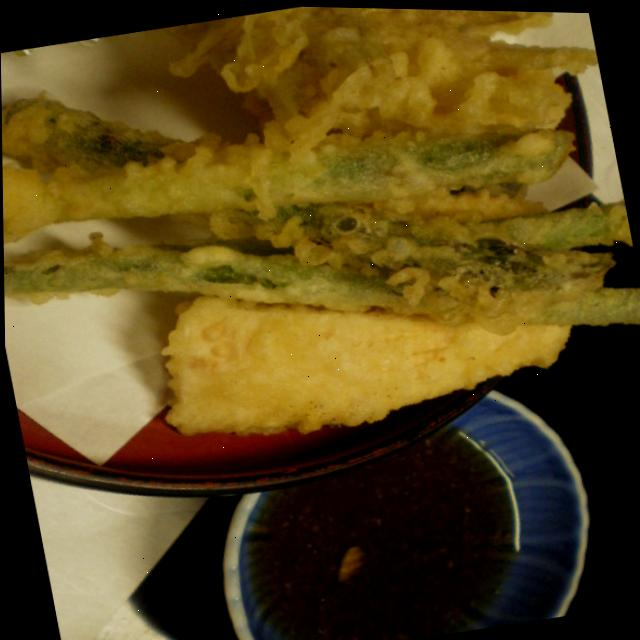蔬菜料理: (0, 0, 640, 549)
